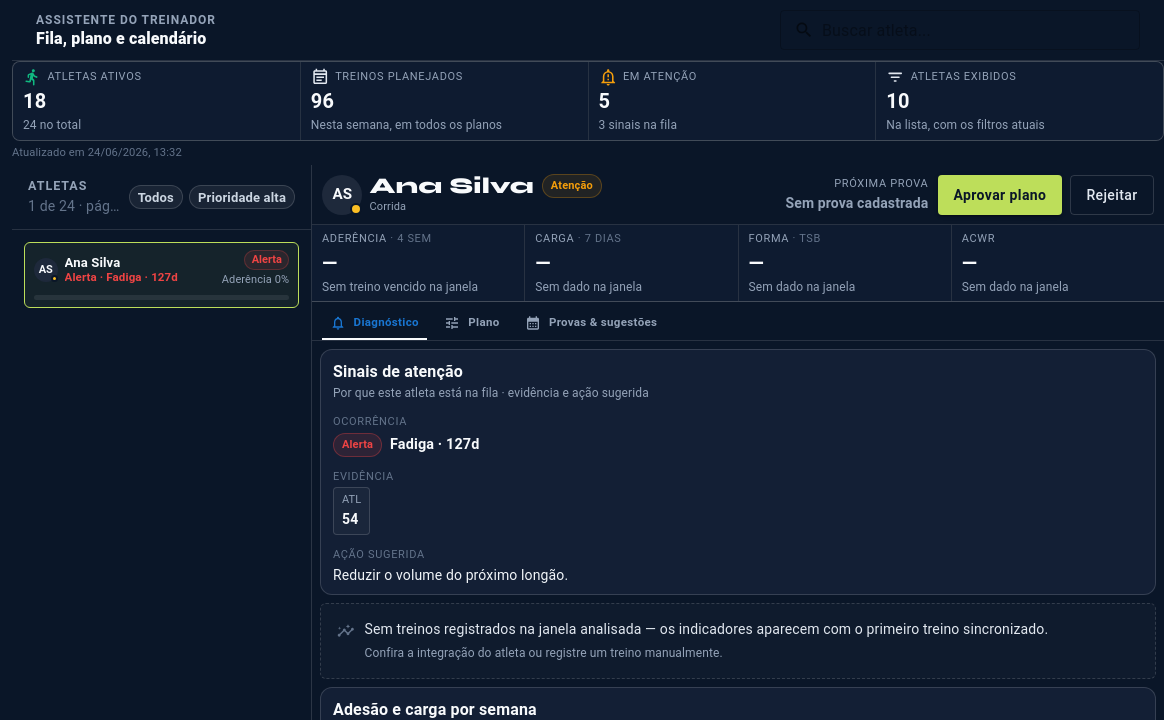
Test: CoachInboxPage › filtros na coluna da lista (task 2.11) › filtrar por status pelo chip aplica o filtro
Click the button with aria-label "filtrar por status" at (156, 197), box left=129, top=185, right=183, bottom=209
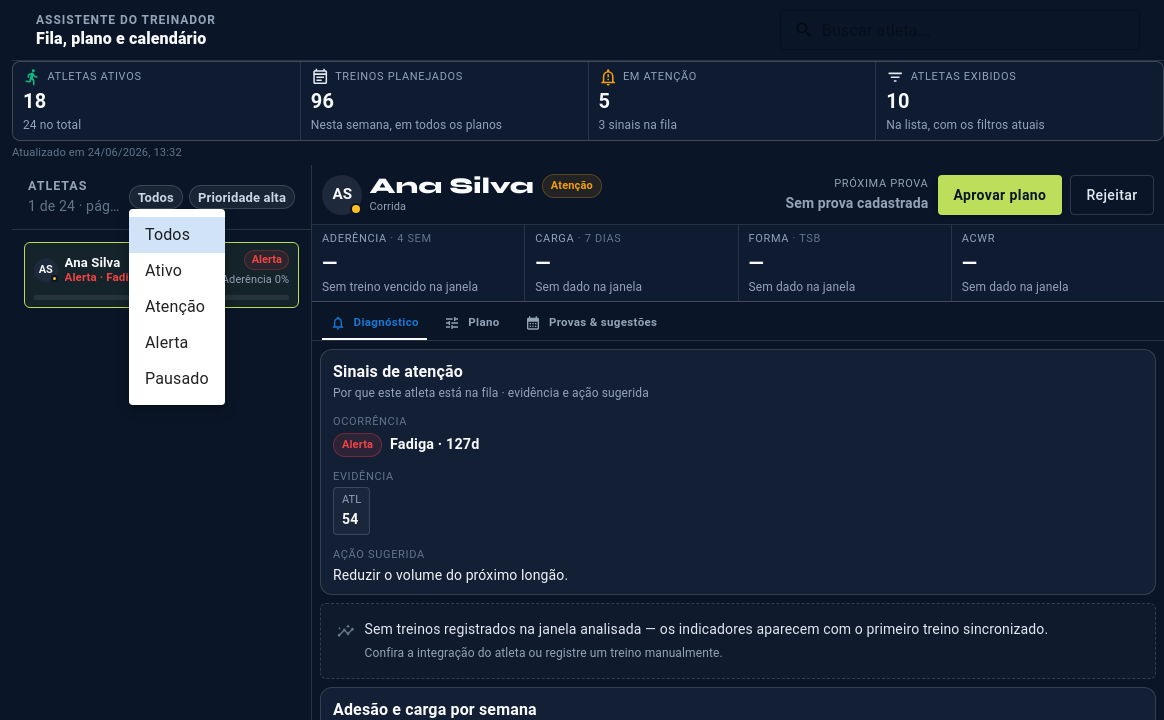
Click the menu item "Atenção" at (175, 306), box left=145, top=297, right=205, bottom=316
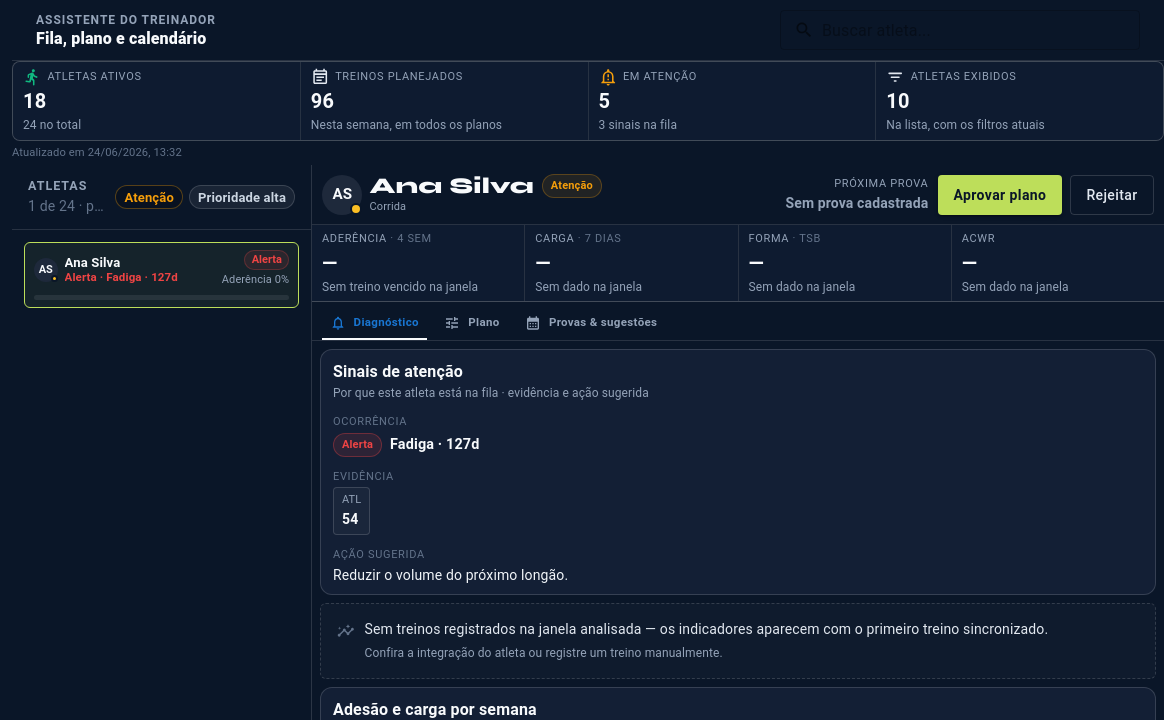
Expected: the button with aria-label "filtrar por status" reads "Atenção", left=115, top=185, right=183, bottom=209
